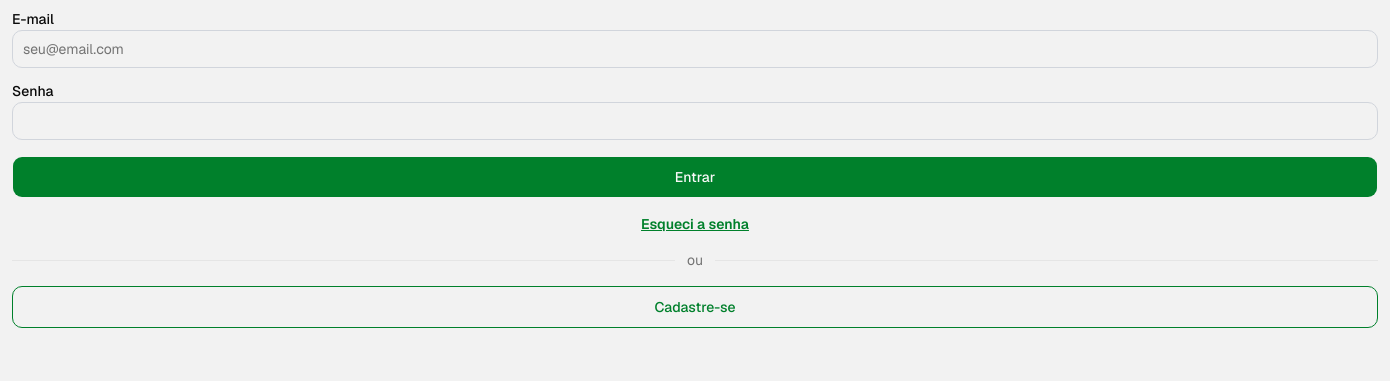
Test: LoginForm › submission › clears server error on new submission attempt
Type "admin@example.com" into the field labelled "E-mail" at [695, 49], box [12,30,1378,68]
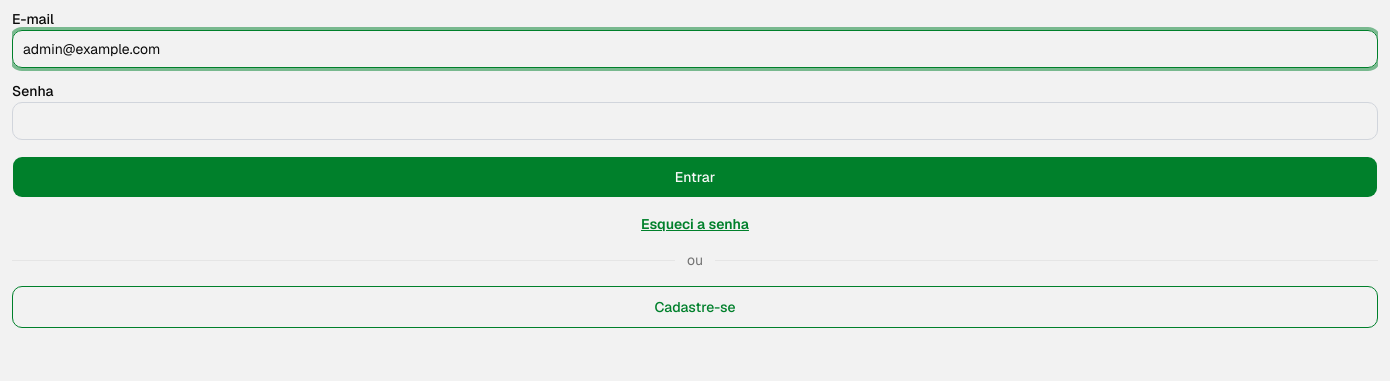
Type "wrongpass" into the password field labelled "Senha" at [695, 121], box [12,102,1378,140]
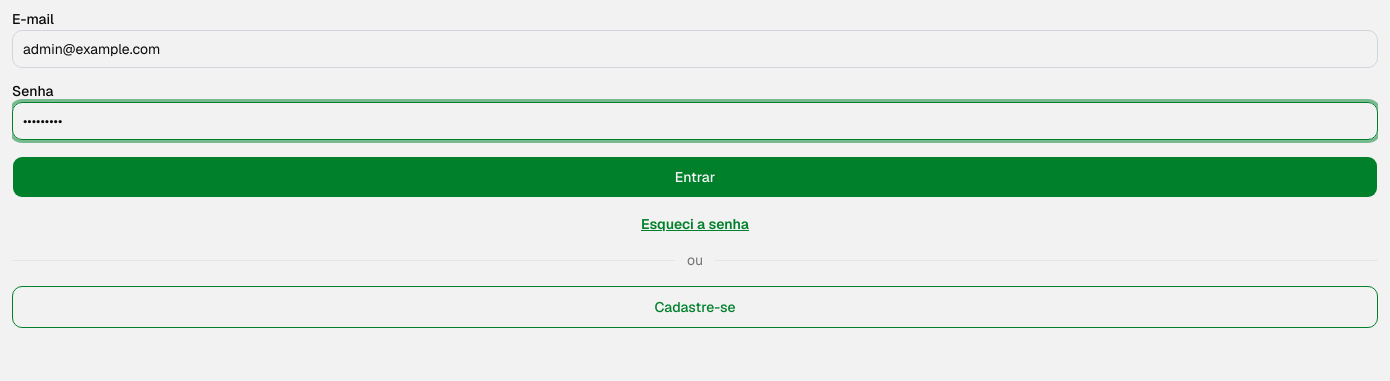
Click the button "Entrar" at [695, 177], box [12,156,1378,198]
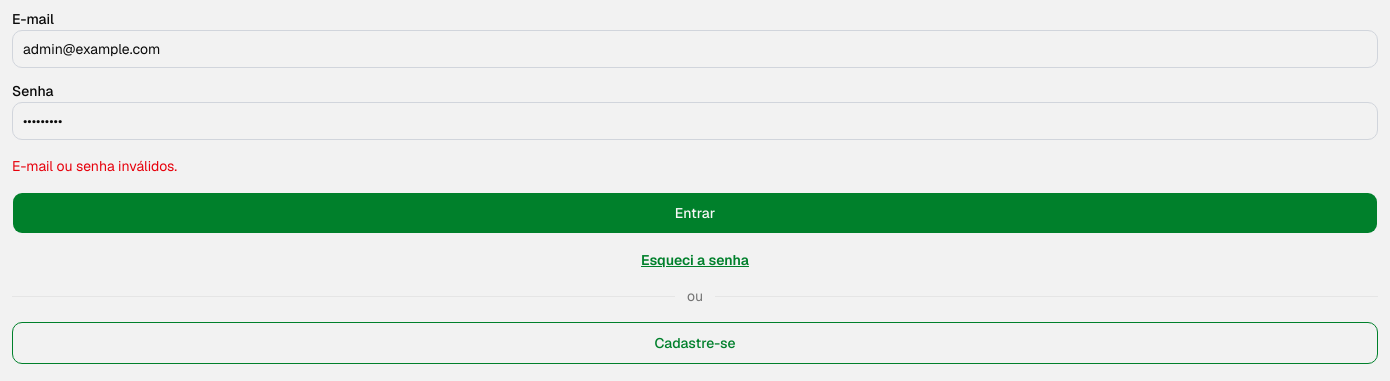
Expected: the text "E-mail ou senha inválidos." is shown, [12,157,177,175]
Click the button "Entrar" at [695, 213], box [12,192,1378,234]
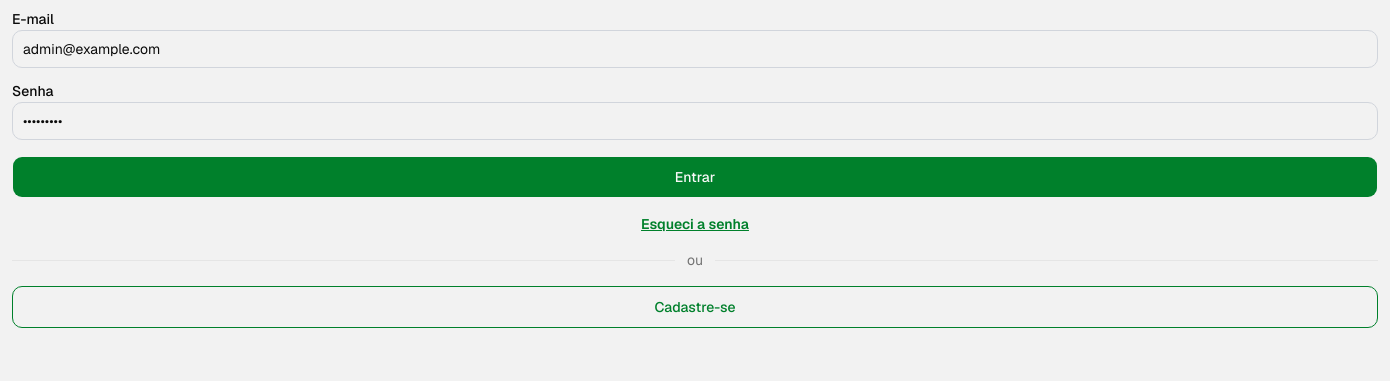
Expected: the text "E-mail ou senha inválidos." is gone
